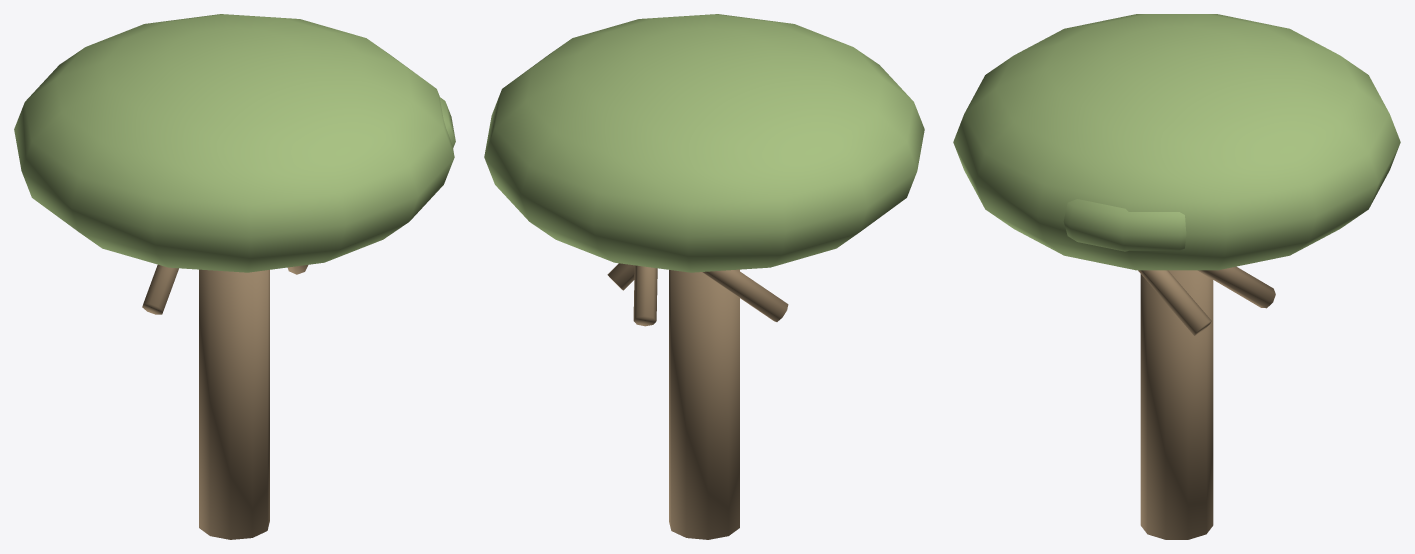
Rendered from acacia_tree.glb.
3 renders of one model, left to right at view 1: azimuth 30°, elevation 25°; view 2: azimuth 150°, elevation 25°; view 3: azimuth 270°, elevation 25°, orthographic.
Parts seen in each view (by area): view 1: Canopy, Trunk, Branch.002; view 2: Canopy, Trunk, Branch.002, Branch; view 3: Canopy, Trunk, Canopy.002, Branch.001, Branch.
Part boxes in pixels (x1=…): Canopy: x1=14, y1=14, x2=454, y2=272; Trunk: x1=199, y1=269, x2=269, y2=539; Branch.002: x1=142, y1=264, x2=178, y2=314; Canopy: x1=484, y1=14, x2=924, y2=272; Trunk: x1=669, y1=269, x2=739, y2=539; Branch.002: x1=702, y1=269, x2=788, y2=321; Branch: x1=633, y1=265, x2=657, y2=326; Canopy: x1=953, y1=14, x2=1400, y2=270; Trunk: x1=1140, y1=270, x2=1213, y2=539; Canopy.002: x1=1063, y1=199, x2=1186, y2=251; Branch.001: x1=1138, y1=270, x2=1211, y2=335; Branch: x1=1197, y1=266, x2=1275, y2=308.
Bounding box in the file's own units: 2.65 × 3.16 × 2.7.
